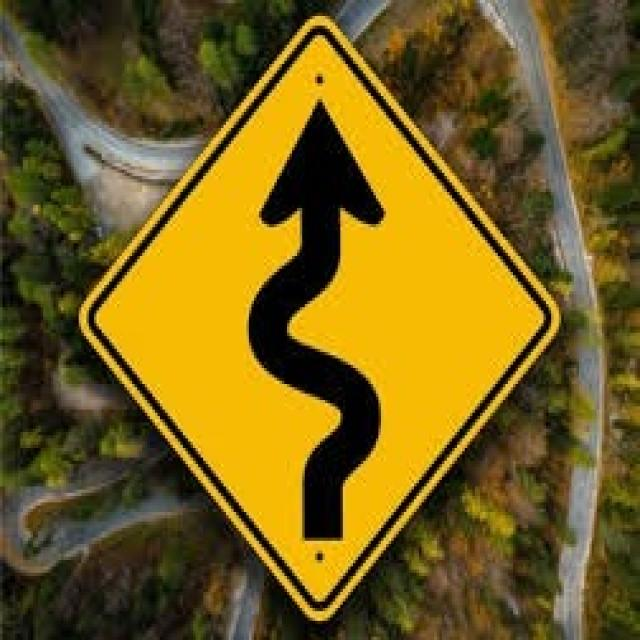left_sharp_curve: (80, 8, 561, 625)
